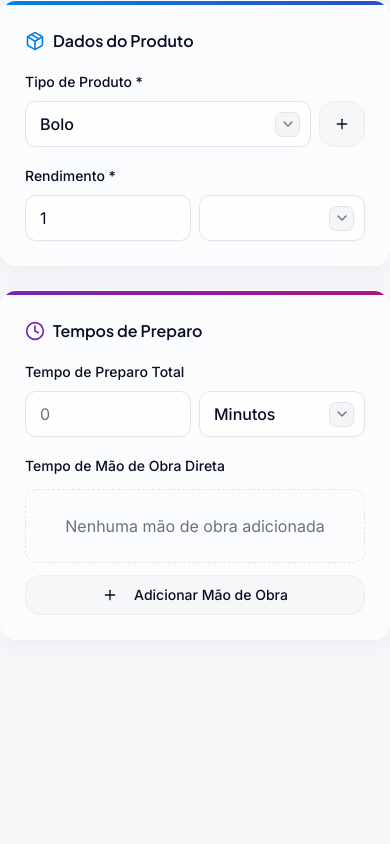
Test case: product type loading and shared catalog › preserves the saved label during loading and searches a short catalog without accents
The image size is (390, 844).
Later steps or results of the test are not shown.
Press Enter in the dropdown named "Tipo de Produto *", box [25, 101, 311, 147]
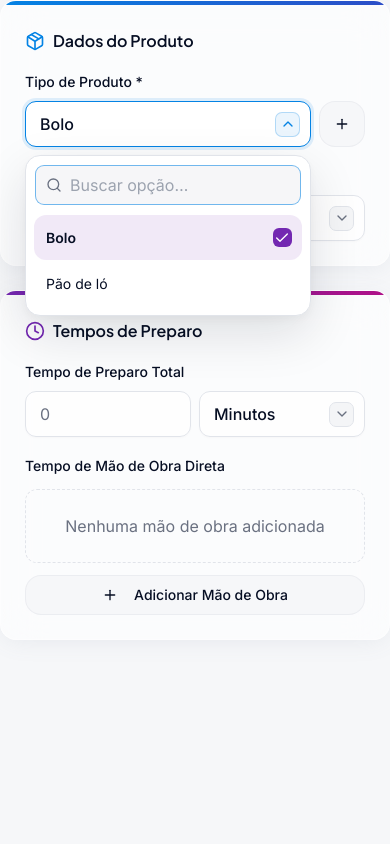
Type "pao" into the field labelled "Buscar opção".
click(180, 185); type("pao")  # box [70, 166, 290, 204]
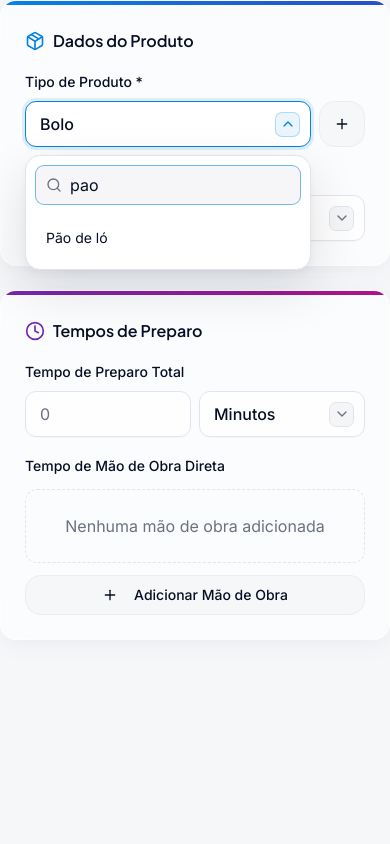
Check: the number of options is 1, box [46, 228, 108, 246]
Press Enter in the field named "Buscar opção", box [70, 166, 290, 204]
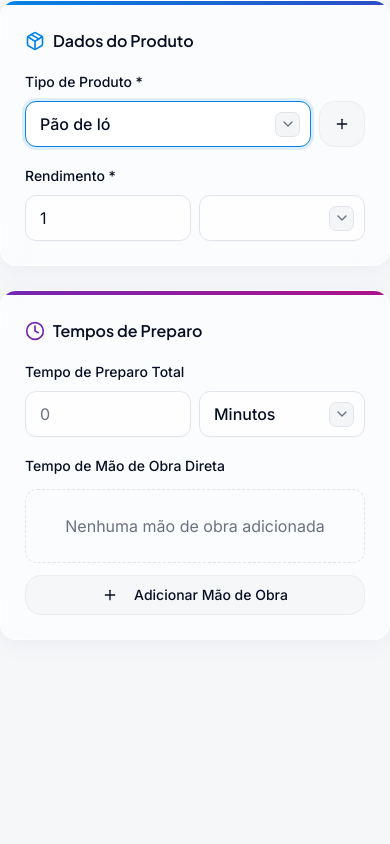
Check: the dropdown named "Tipo de Produto *" reads "Pão de ló", box [25, 101, 311, 147]
